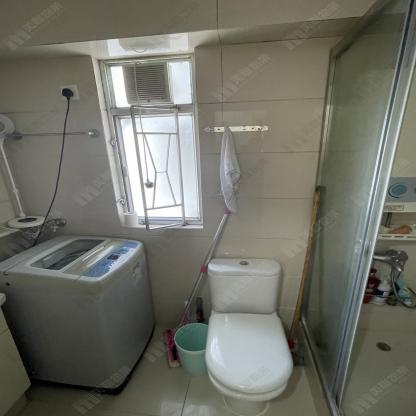Exhaust Fan: (122, 61, 175, 106)
Toilet: (205, 258, 292, 416)
Washing Machine: (0, 233, 155, 387)
Water Cubicle: (296, 0, 416, 416)
